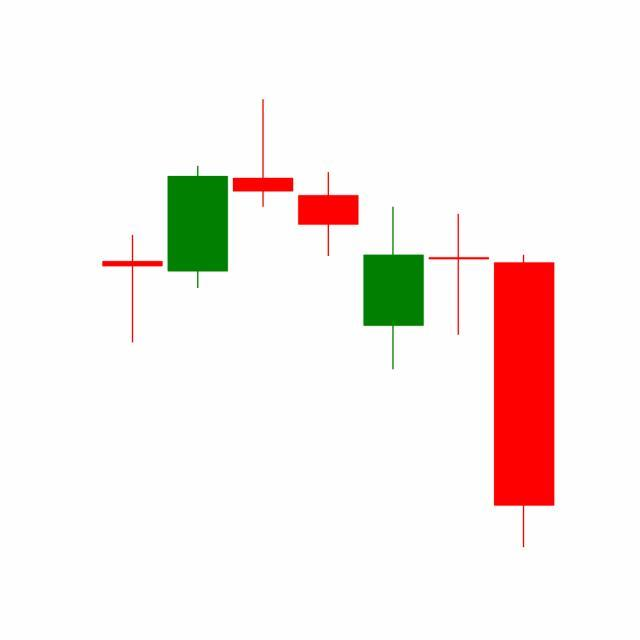Three Inside Up-Down: (360, 203, 556, 549)
